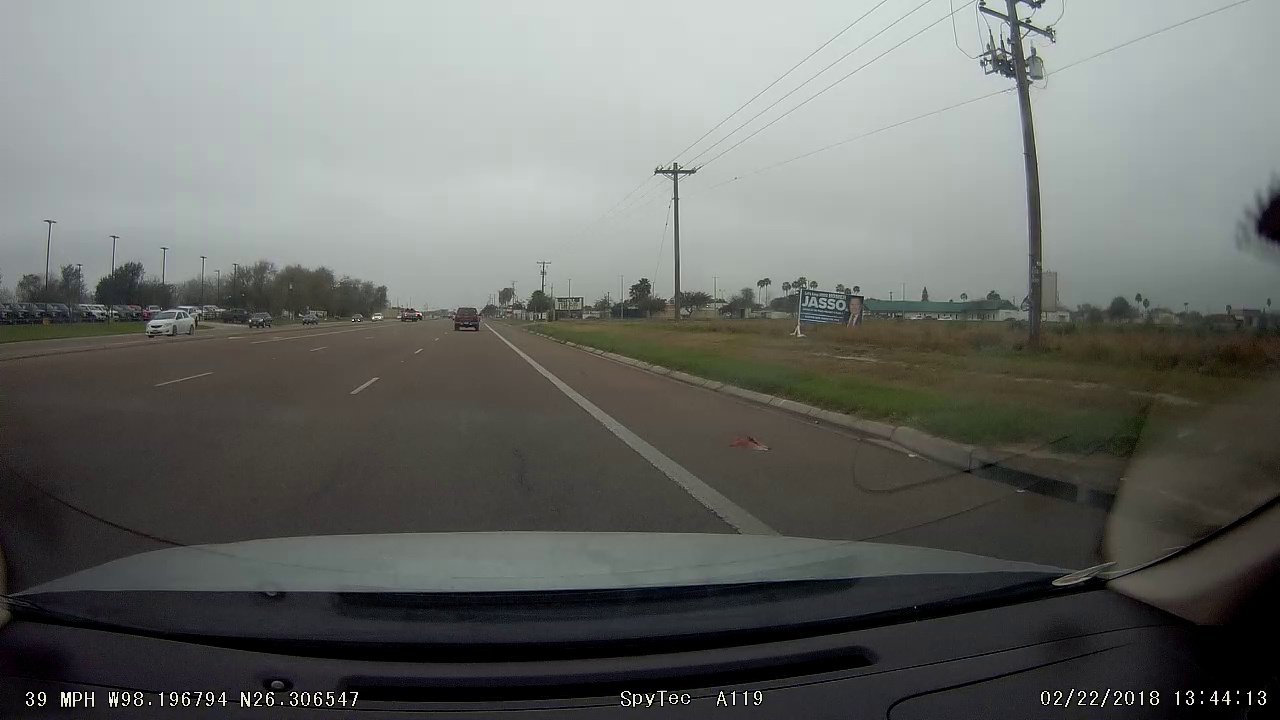crack: (508, 432, 566, 528)
